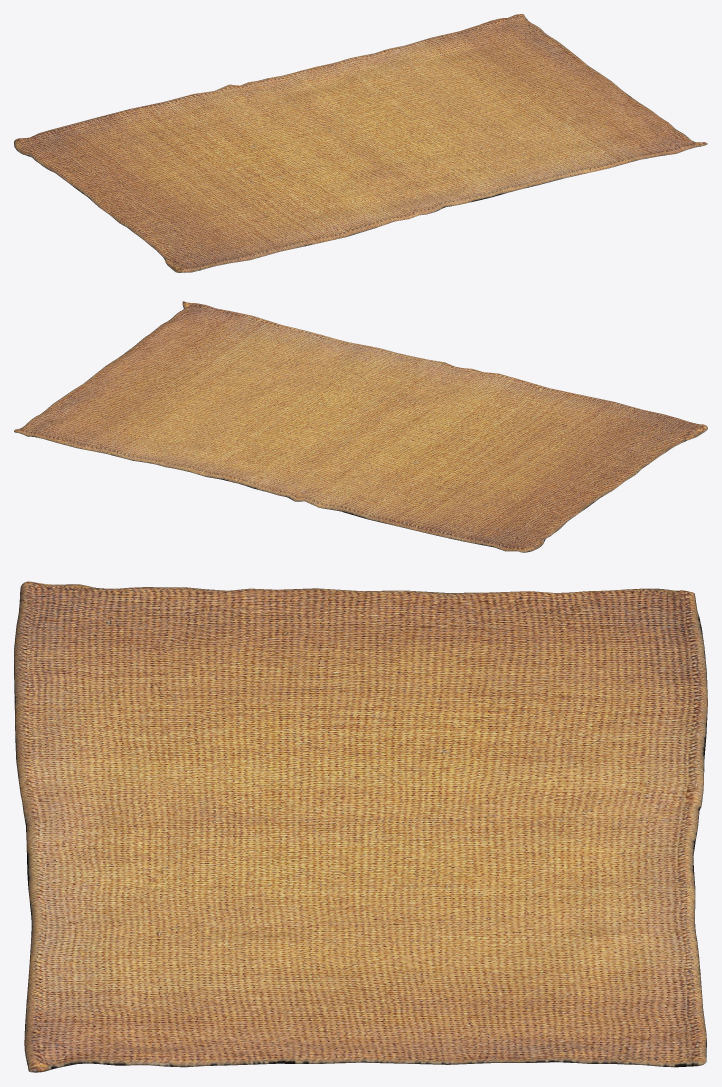
The model's file is straw_mat_b.glb.
The picture shows the model from 3 angles, top to bottom: view 1: azimuth 30°, elevation 25°; view 2: azimuth 150°, elevation 25°; view 3: azimuth 270°, elevation 25°; orthographic projection. The views are drawn at different scales.
Visible parts, largest first — view 1: SM_StrawMat372_M_StrawMat372_0; view 2: SM_StrawMat372_M_StrawMat372_0; view 3: SM_StrawMat372_M_StrawMat372_0.
Part boxes in pixels (x1,y1,x2,y2): SM_StrawMat372_M_StrawMat372_0: [14, 14, 707, 272]; SM_StrawMat372_M_StrawMat372_0: [14, 301, 707, 552]; SM_StrawMat372_M_StrawMat372_0: [14, 581, 707, 1072].
Size of the model in its own units: 2.7 by 0.0296 by 1.62.
1 material, 1 textured.
